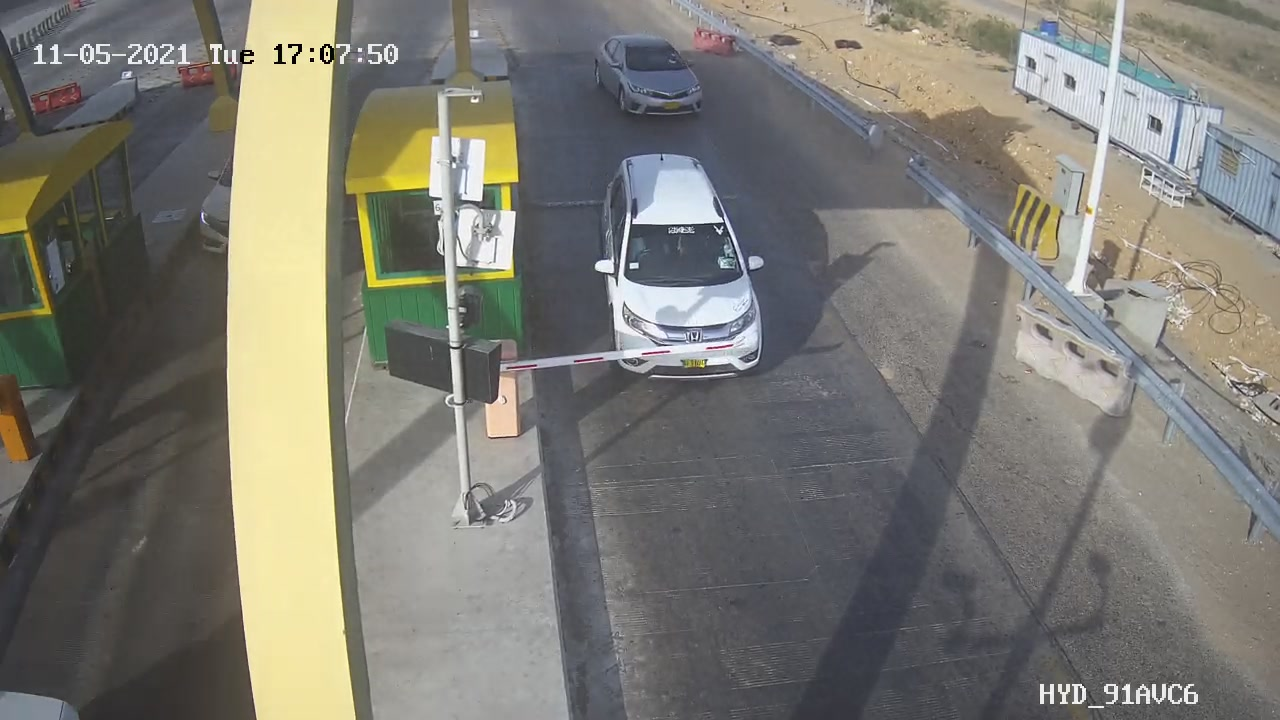F1: (577, 136, 787, 404), (579, 18, 725, 135)
